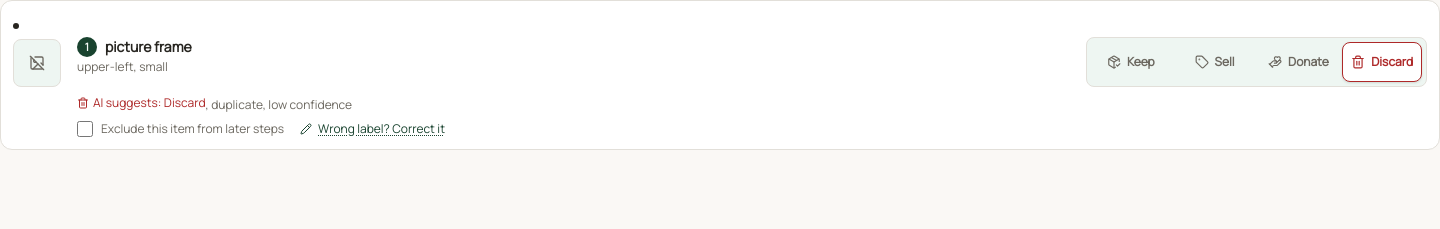
Scenario: DeclutterItemCard › label correction control › duplicate submission is disabled while this item is being corrected, and the pending state is accessible
Click the button "Wrong label? Correct it" at (372, 129), box [300, 121, 445, 137]
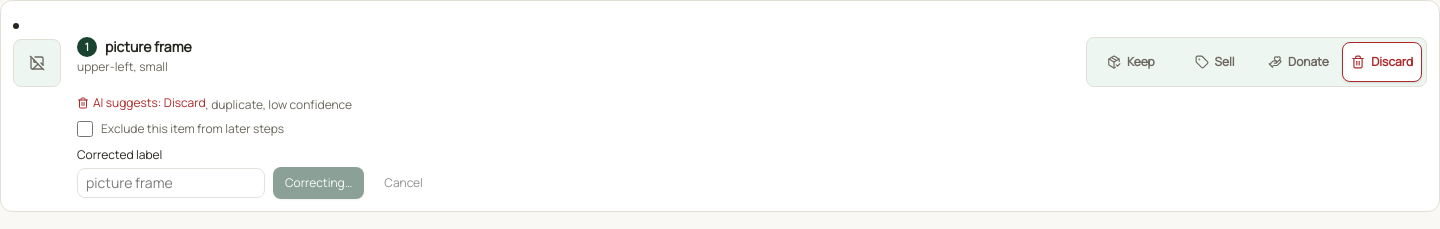
Now the button "Correcting…" is disabled, box [273, 167, 364, 199]
Now the field labelled "Corrected label" is disabled, box [77, 168, 265, 198]
